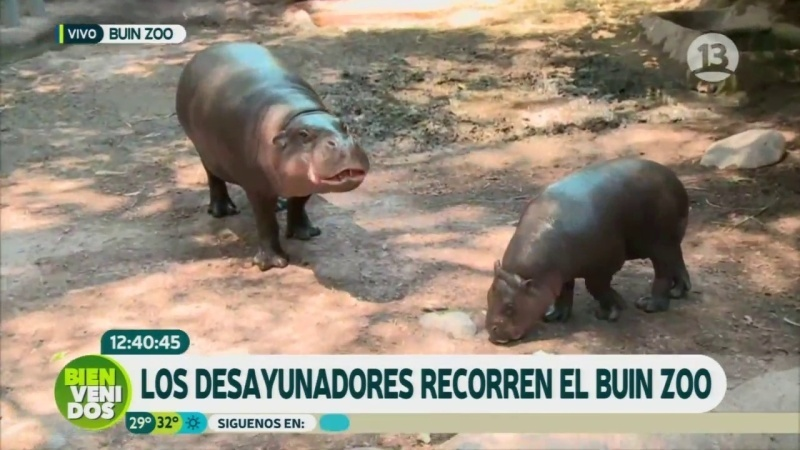hipopotamo: (161, 36, 380, 287), (458, 147, 709, 350)
